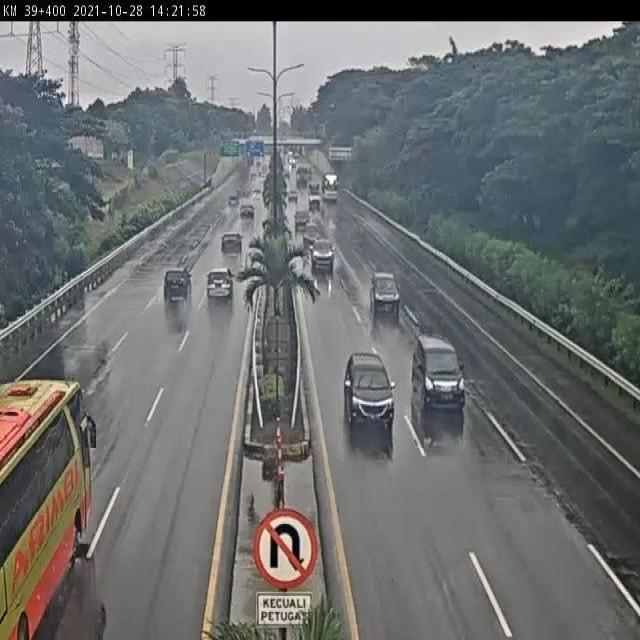Bus: (0, 377, 104, 634), (322, 173, 339, 202)
Car: (410, 334, 466, 441), (343, 351, 395, 456), (369, 272, 401, 329), (206, 268, 234, 309), (164, 268, 192, 307), (311, 238, 336, 272), (220, 233, 243, 254), (239, 203, 255, 219), (287, 188, 298, 202), (228, 191, 238, 206), (252, 186, 262, 197)
Truck: (308, 184, 322, 211)
